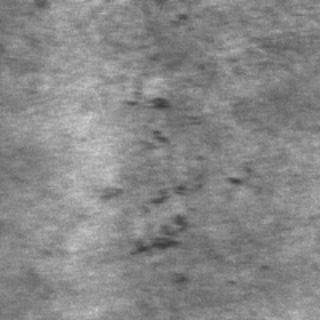rolled pit: (112, 69, 216, 293)
